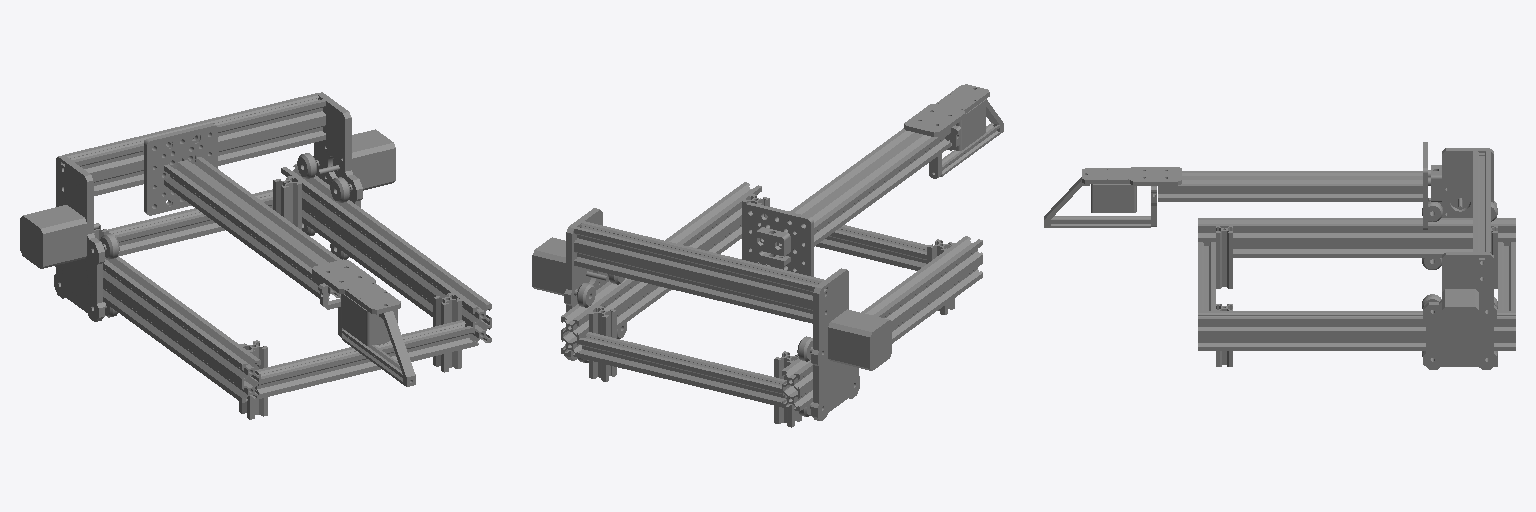
URDF robot description (prismatic_example):
<?xml version="1.0"?>
<robot name="prismatic_example">

  <!-- Material -->
  <material name="grey">
    <color rgba="0.6 0.6 0.6 1.0"/>
  </material>

  <!-- AluminumBase -->
  <link name="platform_link">    
    <!-- <visual>
      <geometry>
        <mesh filename="package://manipulator_description/meshes/AluminumBase.stl" scale="0.001 0.001 0.001"/>  
      </geometry>
      <material name="grey"/>
    </visual>
    <collision>
      <geometry>
        <mesh filename="package://manipulator_description/meshes/AluminumBase.stl" scale="0.001 0.001 0.001"/> 
      </geometry>
    </collision> -->
  </link>

  <!-- AxisX -->
  <link name="AxisX_link">
    <visual>
      <geometry>
        <mesh filename="package://manipulator_description/meshes/AxisX.stl" scale="0.001 0.001 0.001"/>  
      </geometry>
      <material name="grey"/>
    </visual>
    <collision>
      <geometry>
        <mesh filename="package://manipulator_description/meshes/AxisX.stl" scale="0.001 0.001 0.001"/> 
      </geometry>
    </collision>
  </link>
  
  <!-- AxisY-->
  <link name="AxisY_link">
    <visual> 
      <geometry>
        <mesh filename="package://manipulator_description/meshes/AxisY.stl" scale="0.001 0.001 0.001"/>  
      </geometry>
      <material name="grey"/>
    </visual>
    <collision>
      <geometry>
        <mesh filename="package://manipulator_description/meshes/AxisY.stl" scale="0.001 0.001 0.001"/> 
      </geometry>
    </collision>
  </link>
  
  <!-- AxisZ-->
  <link name="AxisZ_link">
    <visual> 
      <geometry>
        <mesh filename="package://manipulator_description/meshes/AxisZ.stl" scale="0.001 0.001 0.001"/>  
      </geometry>
      <material name="grey"/>
    </visual>
    <collision>
      <geometry>
        <mesh filename="package://manipulator_description/meshes/AxisZ.stl" scale="0.001 0.001 0.001"/> 
      </geometry>
    </collision>
  </link>

    
  <!-- Claw-->
  <link name="MovingPlate_link">
    <visual> 
      <geometry>
        <mesh filename="package://manipulator_description/meshes/MovingPlate.stl" scale="0.001 0.001 0.001"/>  
      </geometry>
      <material name="grey"/>
    </visual>
    <collision>
      <geometry>
        <mesh filename="package://manipulator_description/meshes/MovingPlate.stl" scale="0.001 0.001 0.001"/> 
      </geometry>
    </collision>
  </link>

  <!--Joints-->
  <joint name="AxisX_joint" type="fixed">
    <parent link="platform_link"/>
    <child link="AxisX_link"/>
    <origin xyz="-0.115 -0.160 0.0015" rpy="0 0 0" />
  </joint>

  <joint name="AxisY_joint" type="prismatic">
    <parent link="AxisX_link"/>
    <child link="AxisY_link"/>
    <origin xyz="-0.01 0.308 0.0225" rpy="1.5708 0 0" />  <!-- 1.5708 rad = 90° -->
    <axis xyz="0 0 1"/>
    <limit lower="0" upper="0.234" effort="0.1" velocity="0.1"/>
  </joint>
 
  <joint name="AxisZ_joint" type="prismatic">
    <parent link="AxisY_link"/>
    <child link="AxisZ_link"/>
    <origin xyz="0.039 0.08 0.006" rpy="-1.5708 0 0" /> 
    <axis xyz="1 0 0"/>
    <limit lower="0" upper="0.105" effort="0.1" velocity="0.1"/>
  </joint>

  <joint name="MovingPlate_joint" type="prismatic">
    <parent link="AxisZ_link"/>
    <child link="MovingPlate_link"/>
    <origin xyz="-0.032 -0.076 0.38" rpy="-1.5708 3.1415 0" /> 
    <axis xyz="0 1 0"/>
    <limit lower="0" upper="0.18" effort="0.1" velocity="0.1"/>
  </joint>

</robot>

--- Facts derived from the render (not from the file) ---
Views: 3 orthographic renders of the robot side by side, from view 1: azimuth 30°, elevation 25°; view 2: azimuth 150°, elevation 25°; view 3: azimuth 270°, elevation 25°.
Robot: prismatic_example — 5 links, 4 joints (3 prismatic, 1 fixed); root link platform_link; default pose: all joints at 0.
Visible links, largest first — view 1: AxisX_link, AxisY_link, MovingPlate_link; view 2: AxisX_link, AxisY_link, MovingPlate_link; view 3: AxisX_link, MovingPlate_link, AxisY_link.
Boxes of the visible links, <box> form: AxisX_link: <box>55,164,491,419</box>; AxisY_link: <box>20,92,395,321</box>; MovingPlate_link: <box>144,123,415,386</box>; AxisX_link: <box>561,182,982,427</box>; AxisY_link: <box>532,208,891,420</box>; MovingPlate_link: <box>743,84,1003,276</box>; AxisX_link: <box>1198,218,1515,366</box>; MovingPlate_link: <box>1044,142,1441,229</box>; AxisY_link: <box>1422,148,1497,369</box>.
Size in the robot's own frame: 0.3824 by 0.534 by 0.187 metres.
Meshes: 4 distinct files referenced, 3 mesh visuals loaded (3 binary STL); not drawn: 1 (reference not matched to a file when rendering).